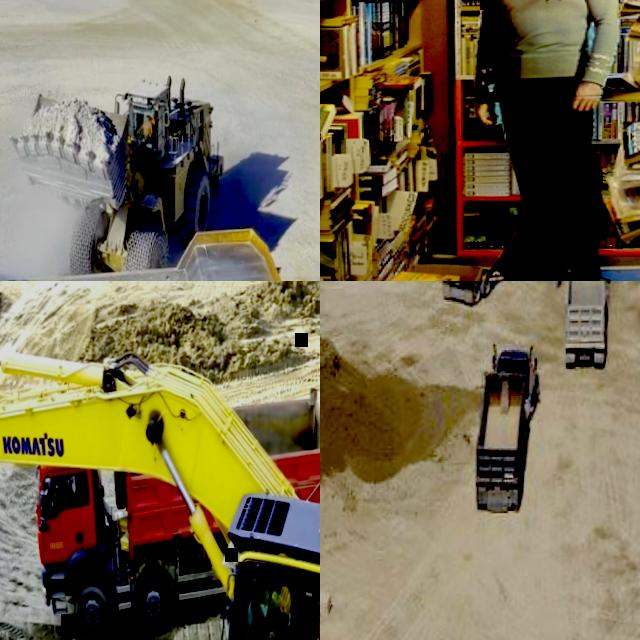NO-Hardhat: (144, 113, 150, 120)
NO-Safety Vest: (58, 489, 74, 508), (284, 618, 290, 640), (143, 123, 151, 137)
Person: (254, 591, 293, 640), (50, 479, 75, 514), (137, 112, 153, 139)
Safety Vest: (314, 607, 320, 640)
vehicle: (0, 324, 320, 640), (30, 386, 320, 637), (8, 71, 227, 275), (0, 222, 316, 281), (472, 342, 544, 517), (561, 281, 618, 371), (436, 281, 558, 309)
